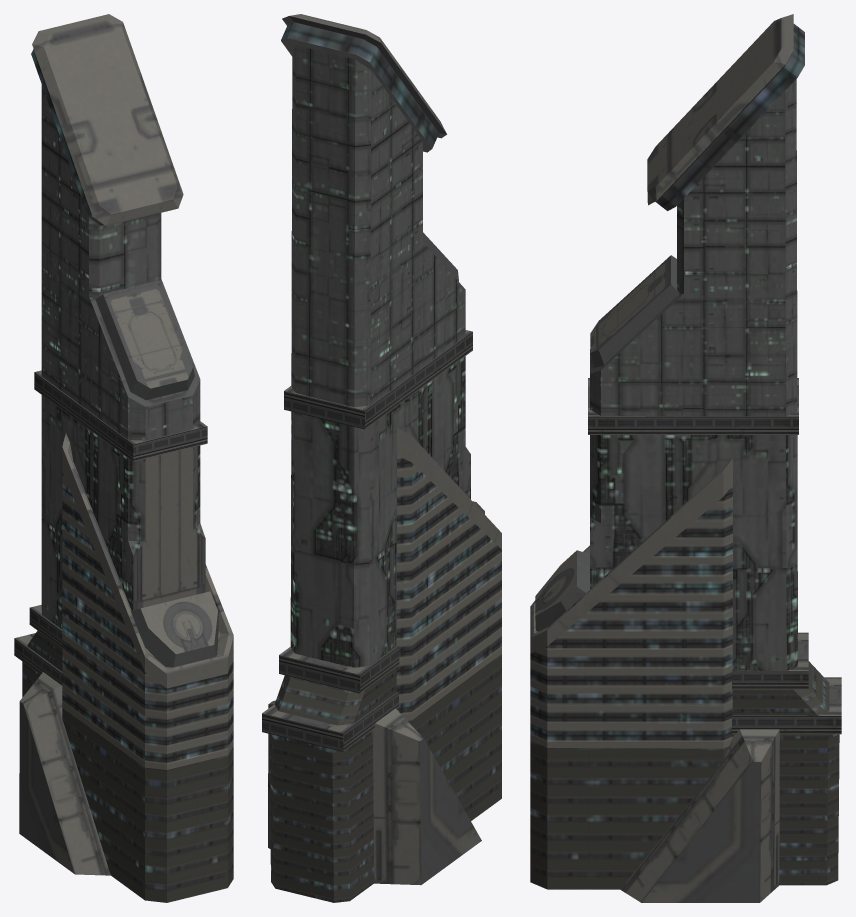
File: Skyscraper_distance_4.gltf
3 views of the same model, side by side, from view 1: azimuth 30°, elevation 25°; view 2: azimuth 150°, elevation 25°; view 3: azimuth 270°, elevation 25° (orthographic). The views are drawn at different scales.
Parts seen in each view (by area): view 1: Skyscraper_distance_4; view 2: Skyscraper_distance_4; view 3: Skyscraper_distance_4.
Part boxes in pixels (x1,y1,x2,y2): Skyscraper_distance_4: (14, 14, 233, 902); Skyscraper_distance_4: (262, 14, 501, 902); Skyscraper_distance_4: (530, 14, 841, 902).
Size of the model in its own units: 26.19 by 139 by 47.2.
Materials: 1 (1 with a texture image).
